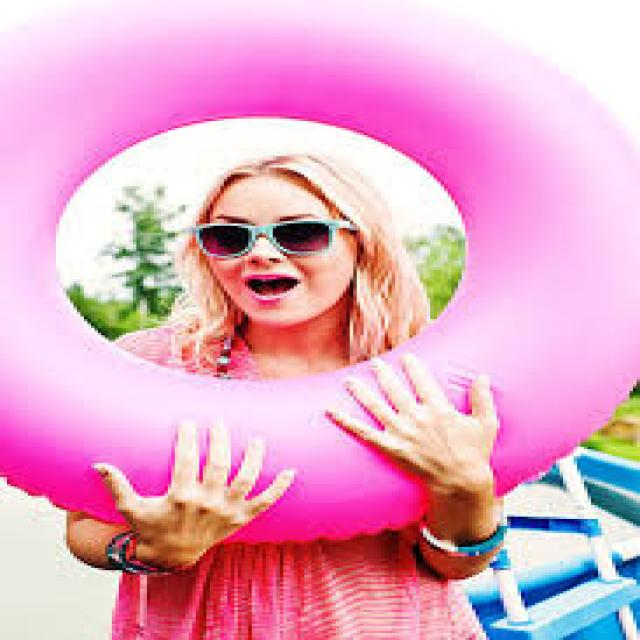Glasses: (168, 208, 352, 277)
